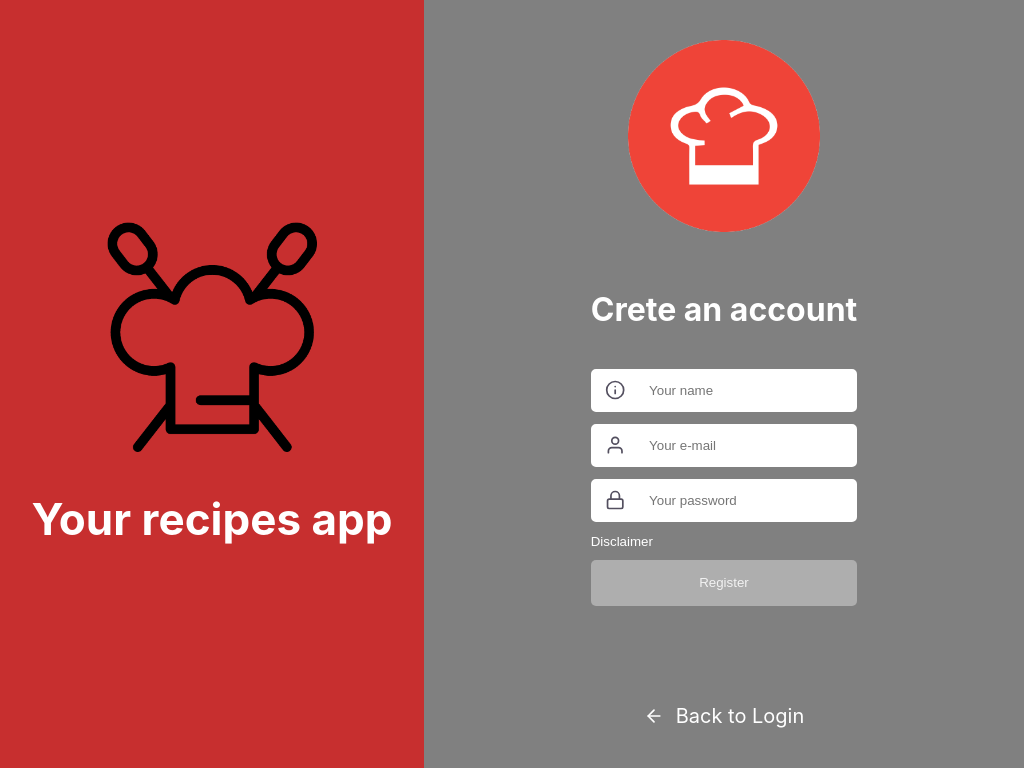
Test: Register page structure testing › should have a modal button functioning correctly
Click the button with test id "register-modal" at (622, 542), box [591,534,653,549]
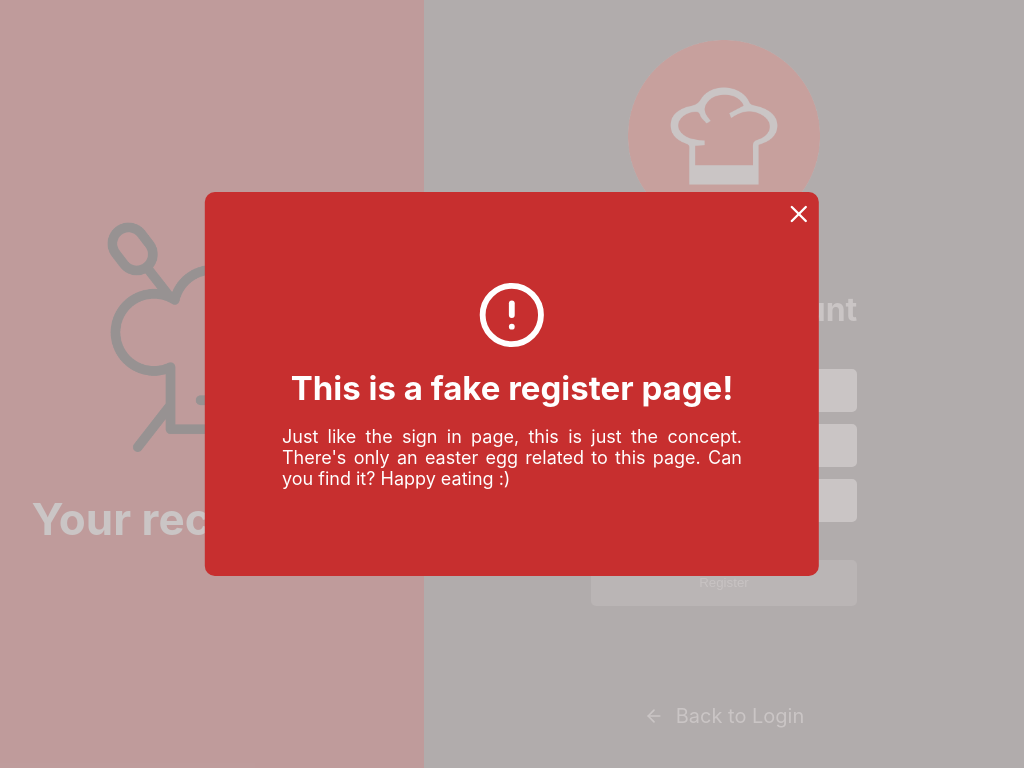
Check: the heading "This is a fake register page!" is shown, box [291,368,733,408]
Check: the text with test id "modal-description" is shown, box [282,426,742,488]
Click the button with test id "modal-close" at (799, 217), box [785,200,813,235]
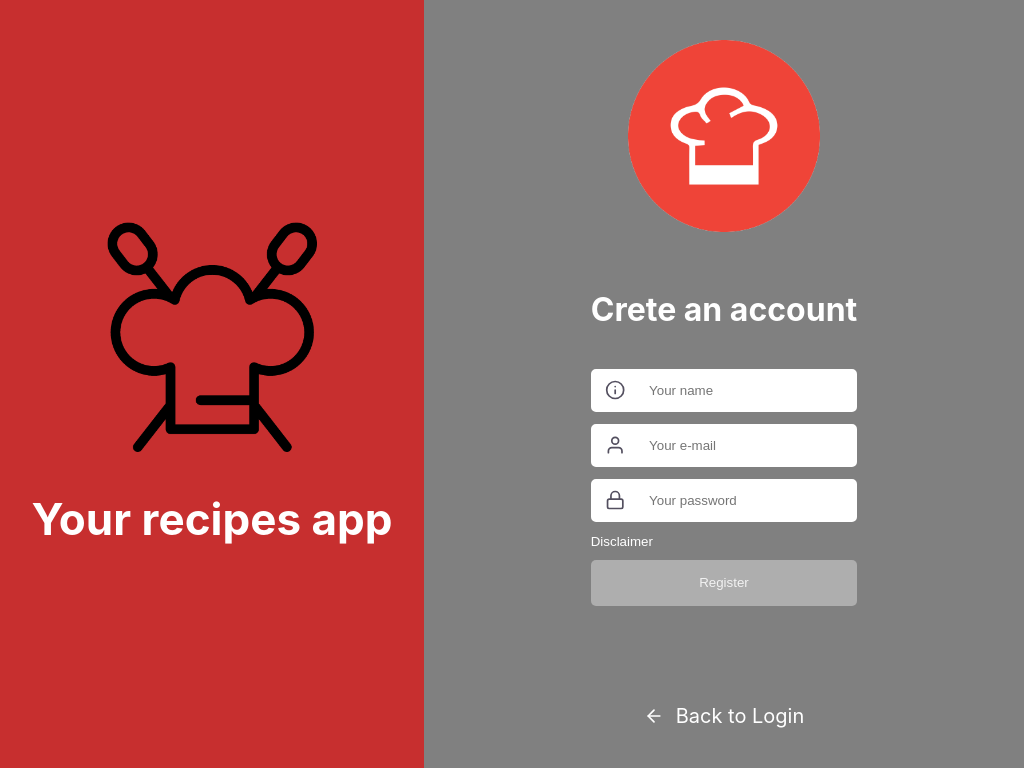
Check: the heading with test id "modal-title" is gone
